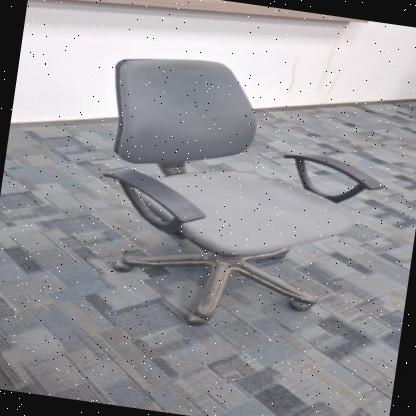chair: (72, 40, 404, 352)
